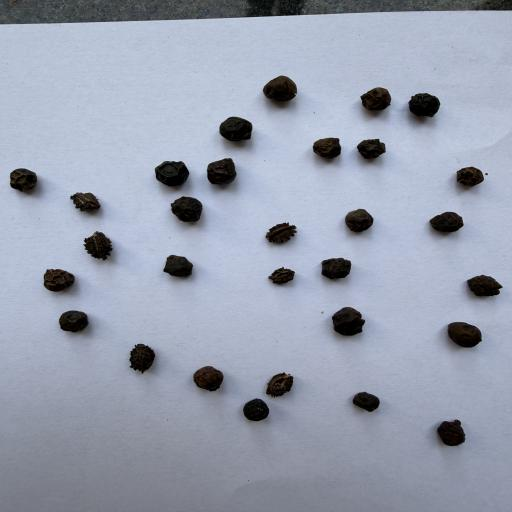Black_pepper: (442, 320, 487, 349), (151, 159, 193, 187), (261, 73, 299, 103), (435, 420, 475, 448), (206, 156, 240, 188), (330, 306, 365, 337), (40, 266, 76, 295), (466, 272, 502, 300), (218, 116, 255, 143), (161, 252, 196, 280), (342, 207, 378, 234), (190, 364, 227, 390), (407, 92, 442, 119), (170, 195, 204, 222), (359, 85, 394, 111), (310, 135, 344, 161), (58, 309, 91, 335), (452, 164, 486, 189), (347, 388, 382, 412), (7, 168, 39, 194), (355, 137, 389, 161), (318, 256, 352, 279), (431, 210, 465, 233), (242, 398, 272, 422)
papaya_seed: (249, 203, 318, 256), (54, 183, 130, 225), (250, 357, 316, 397), (125, 336, 172, 382), (261, 254, 311, 294), (73, 232, 124, 260)
